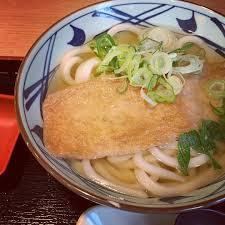kitune: (29, 1, 223, 210)
